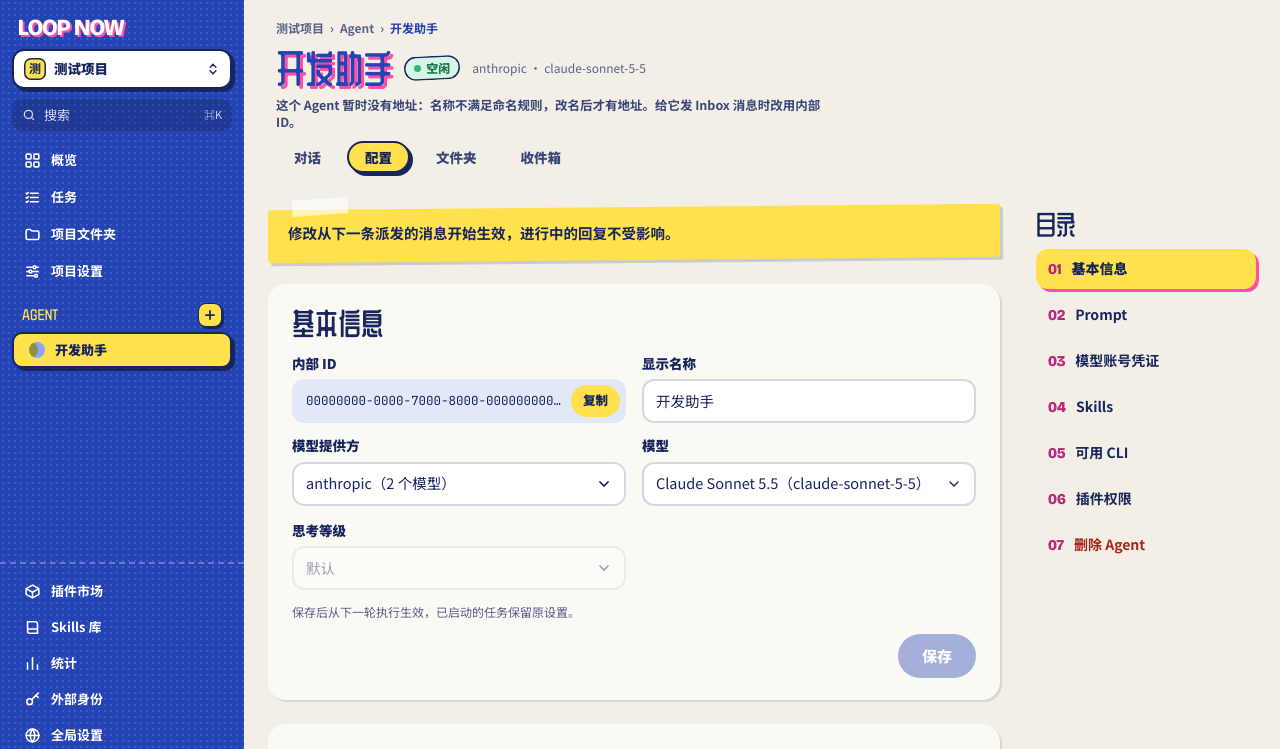
it: 名称、模型与 Prompt › 改名重复时在名称旁显示原因
This screenshot has width=1280, height=749.
Check: the element "基本信息" is shown, box [268,284,1000,700]
Replace the text in the field labelled "显示名称" with "重名" at x=809, y=401, box [642,379,976,423]
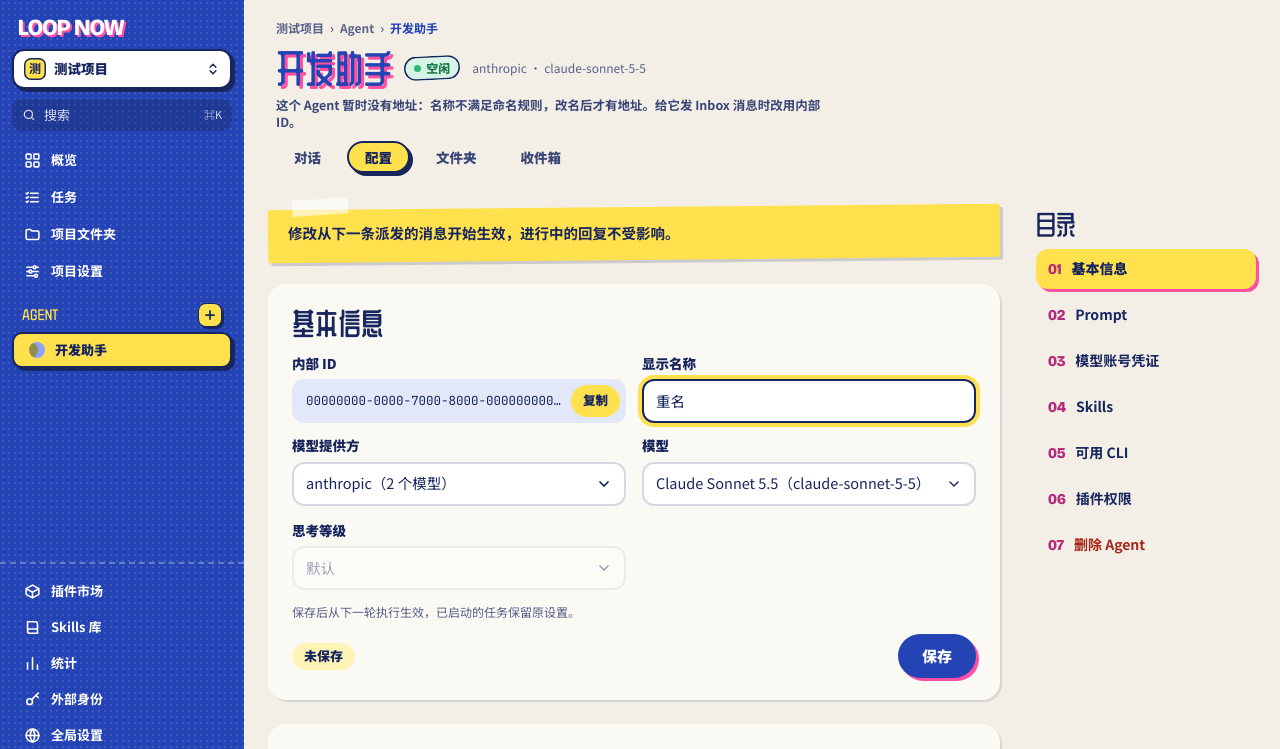
Click the button "保存" at x=937, y=656, box [898,634,976,678]
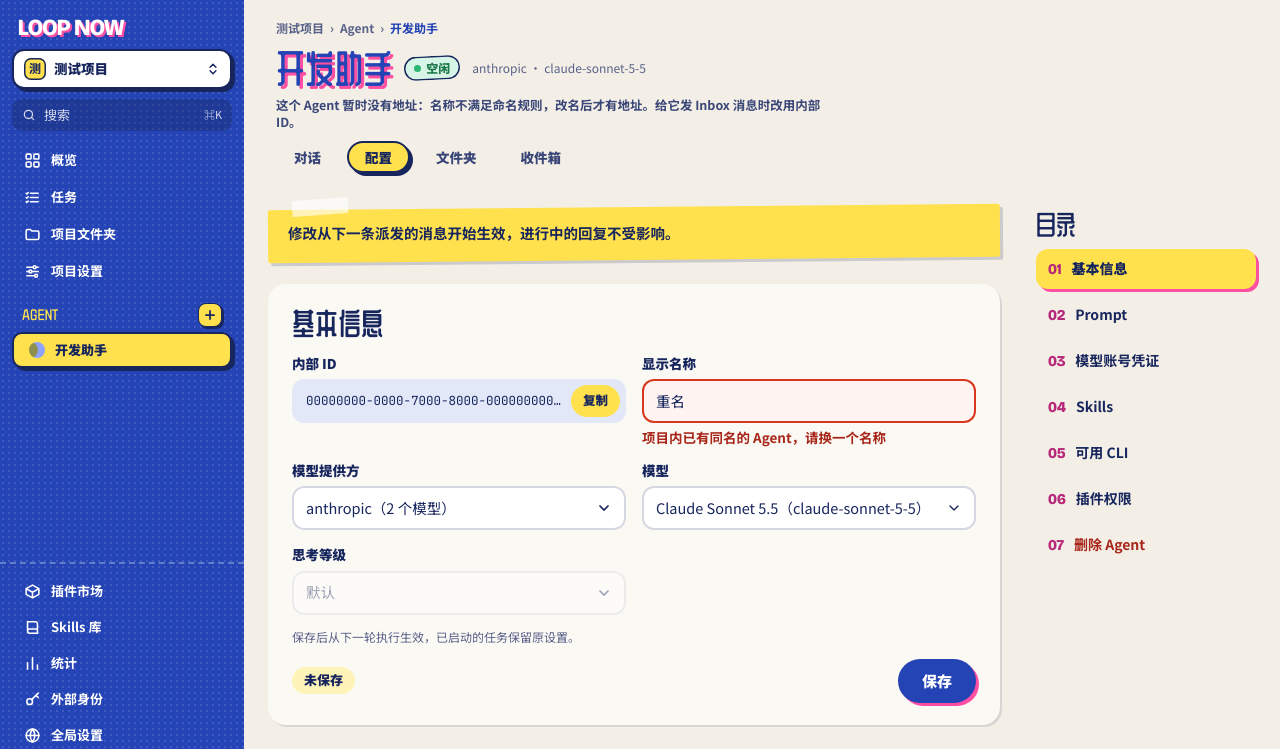
Check: the text "项目内已有同名的 Agent，请换一个名称" is shown, box [642,429,886,446]
